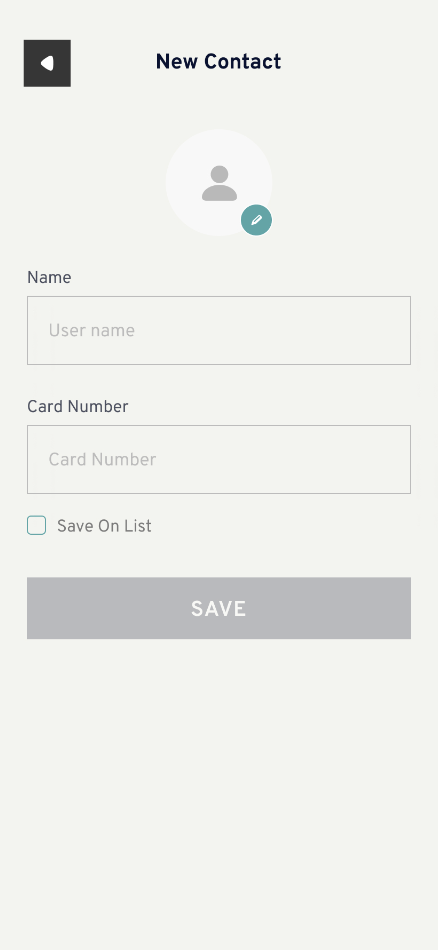Button: (25, 574, 413, 642)
IconButton: (20, 36, 74, 90)
Input: (24, 292, 413, 371), (24, 421, 414, 498)
